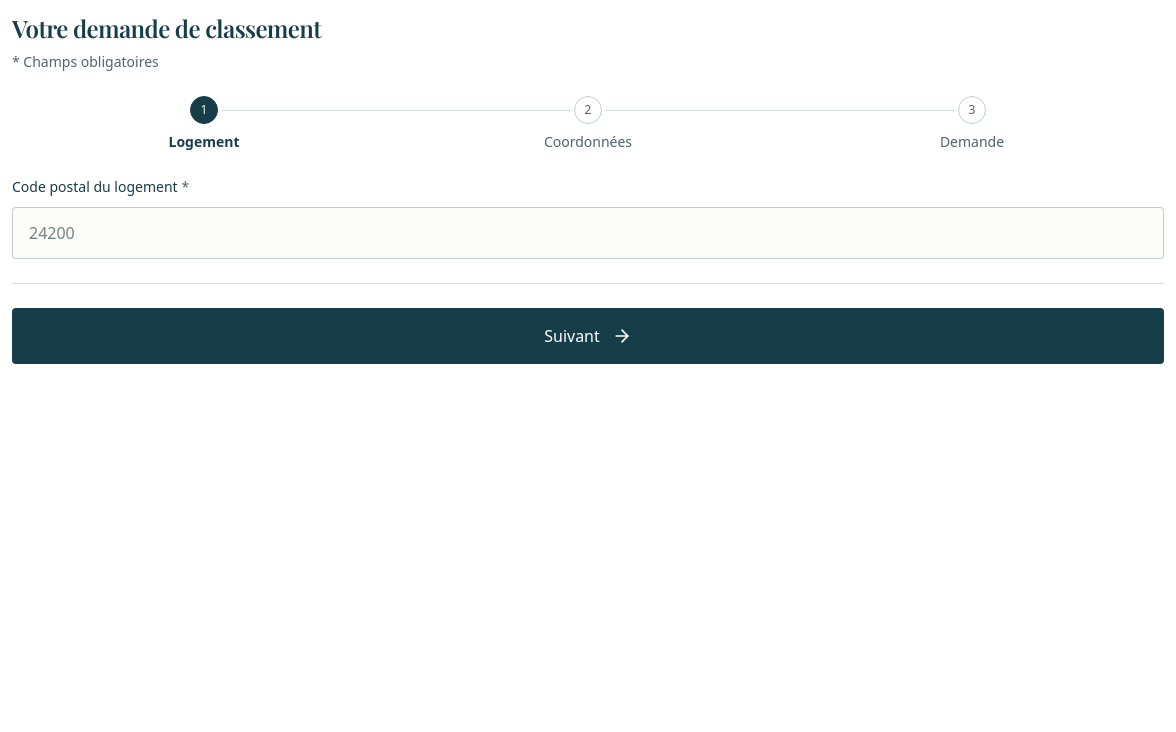
étape Logement › stays blocked with retry and phone when the API is down: fr
In the field labelled "Code postal du logement*": coordinates (588, 233) [12,207,1164,259], type "24150"
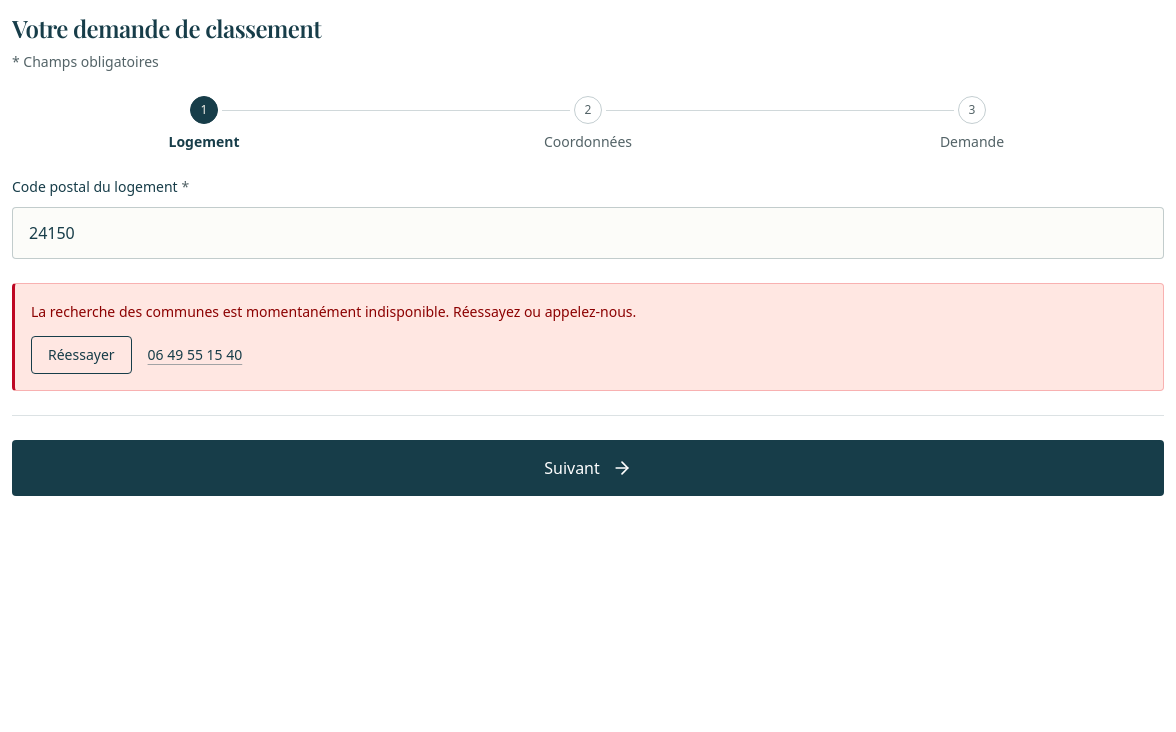
expect the message shows "La recherche des communes est momentanément indisponible. Réessayez ou appelez-nous.": met, box [31,302,636,321]
expect the link to "tel:+33649551540" is shown: met, box [148,344,242,364]
Click the button "Suivant": coordinates (588, 468) [12,440,1164,496]
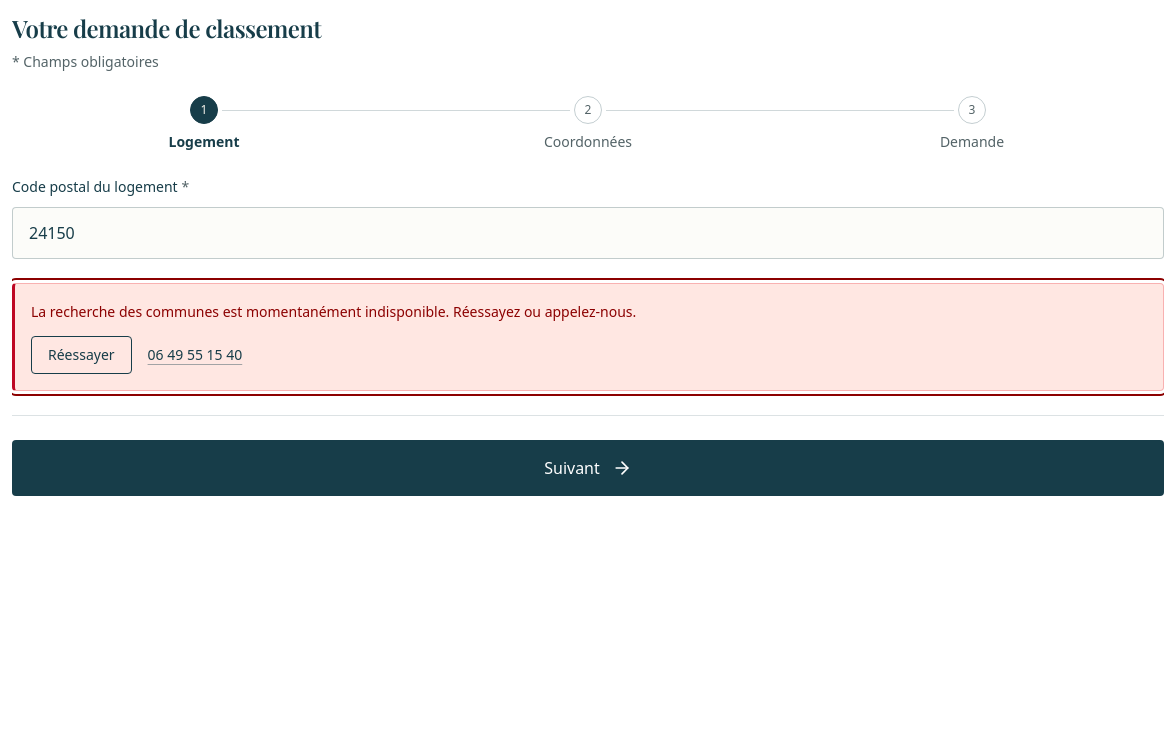
expect the list item "1 Logement" is shown: met, box [168,96,240,151]
Click the button "Réessayer": coordinates (81, 354) [31,336,132,374]
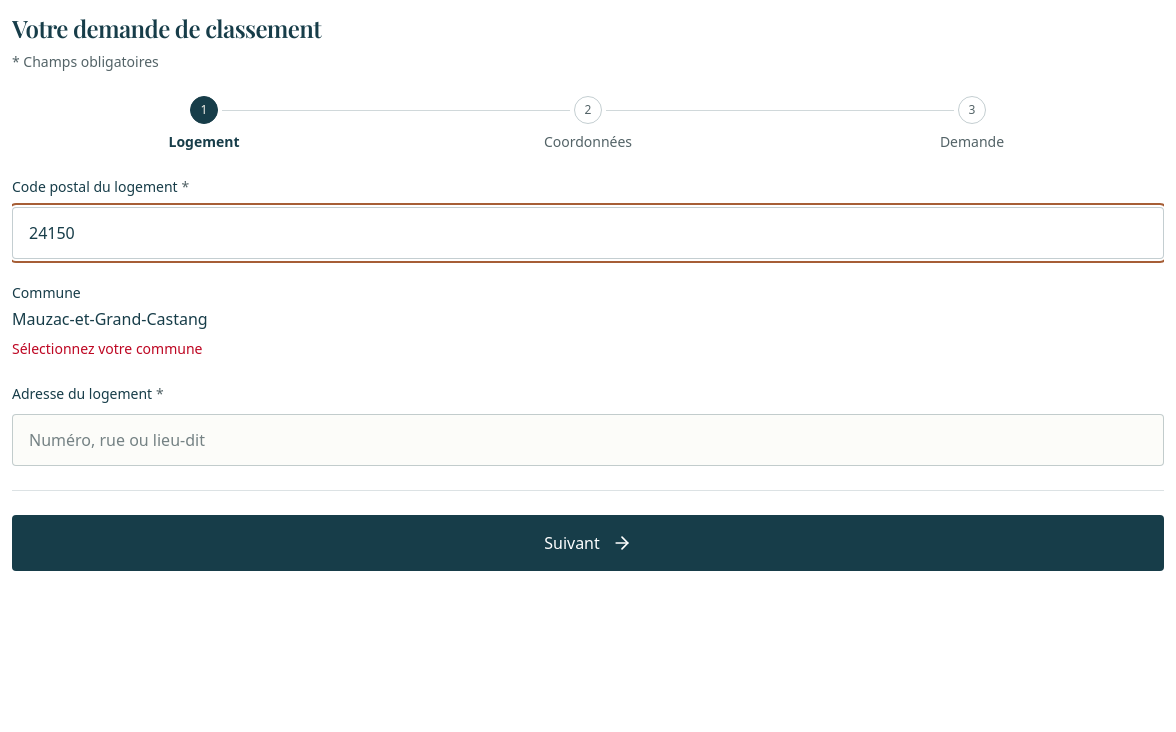
expect the text "Mauzac-et-Grand-Castang" is shown: met, box [12,308,208,330]
expect the text "La recherche des communes est momentanément indisponible. Réessayez ou appelez-nous." is gone: met
